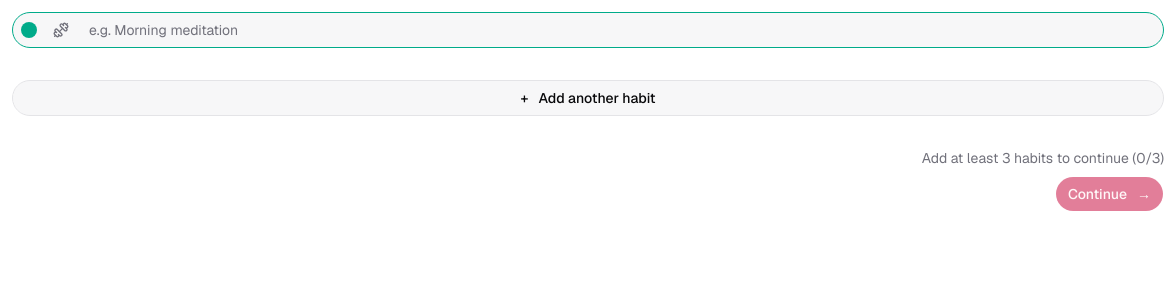
Test: StepHabits › adds a new habit form
The width and height of the screenshot is (1176, 284).
Click the button "+ Add another habit".
click(588, 98)  # box x1=12 y1=80 x2=1164 y2=116
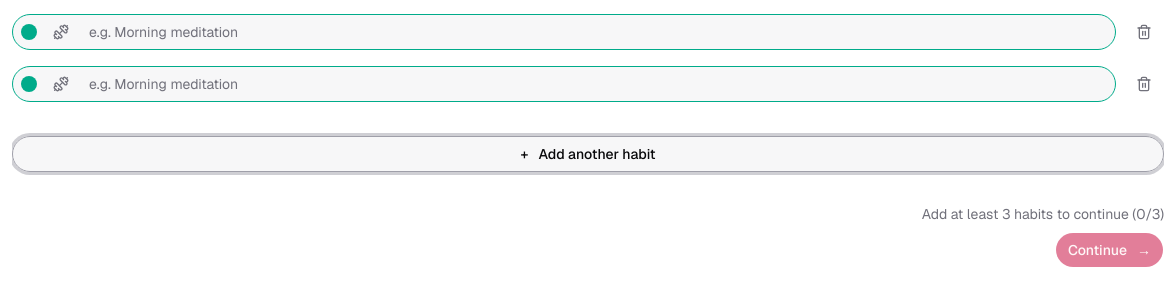
Expected: the number of fields with placeholder "e.g. Morning meditation" is 2, x1=77 y1=14 x2=1115 y2=50; x1=77 y1=66 x2=1115 y2=102
